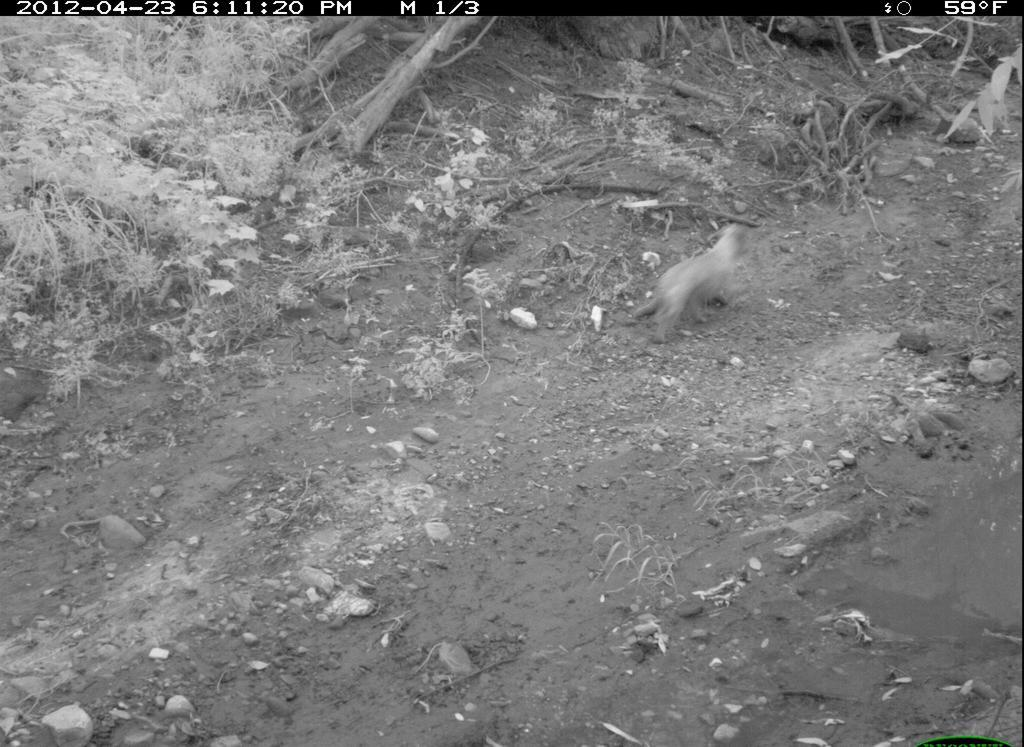dog: (630, 217, 757, 346)
